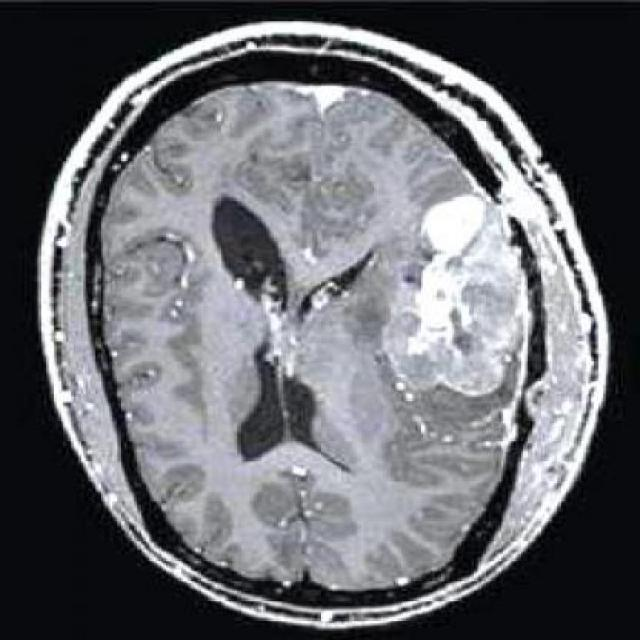Brain-Tumor: (385, 178, 546, 423)
